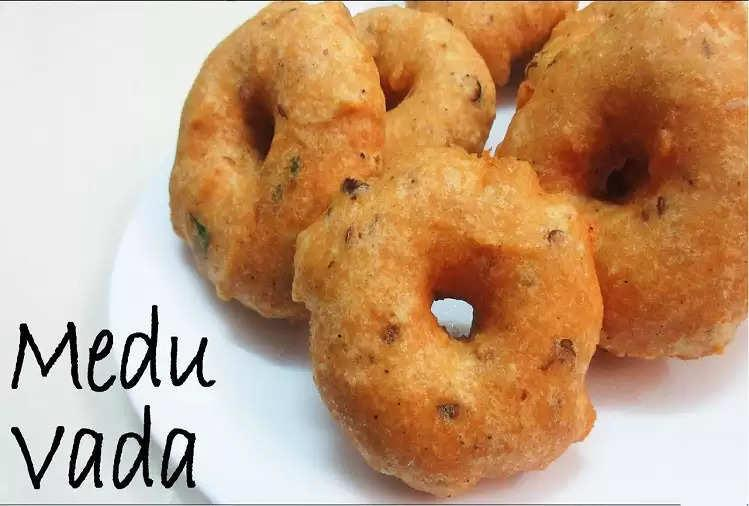mvada: (189, 1, 749, 291)
